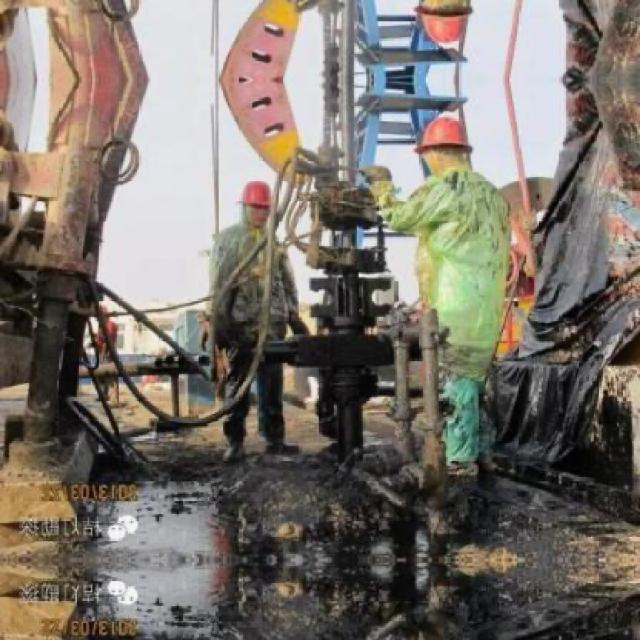helmet: (412, 103, 483, 186), (411, 0, 484, 58), (237, 176, 272, 230)
